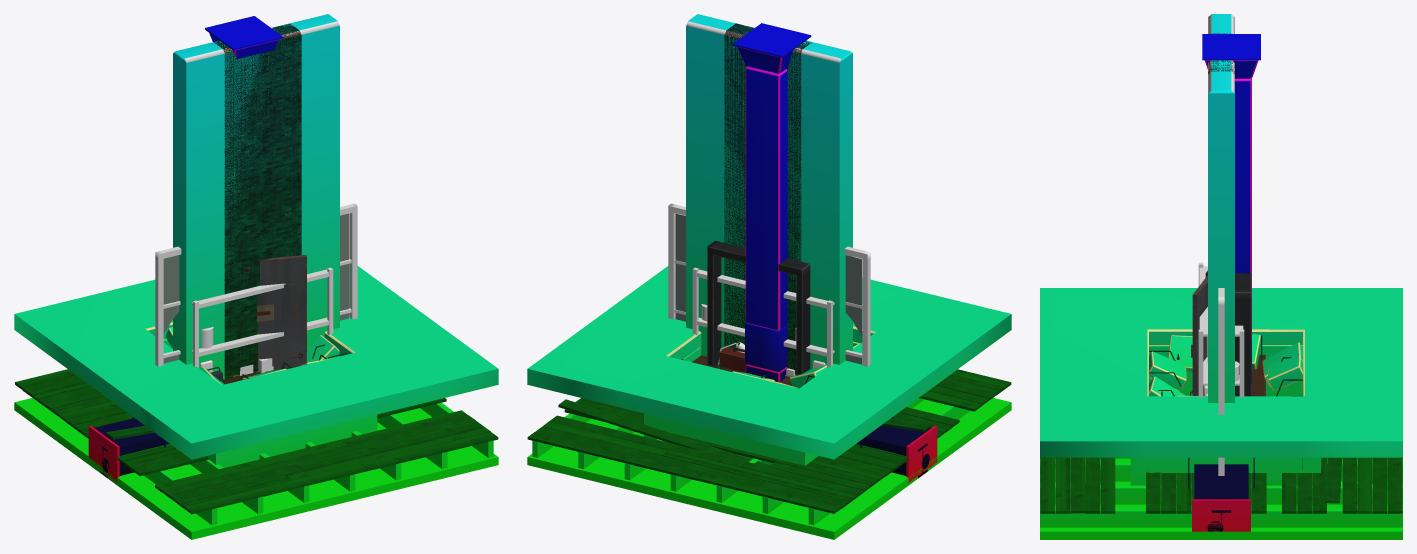
The model's file is factory.glb.
3 views of the same model, side by side, from view 1: azimuth 30°, elevation 25°; view 2: azimuth 150°, elevation 25°; view 3: azimuth 270°, elevation 25° (orthographic). The views are drawn at different scales.
Visible parts, largest first — view 1: SM_Floor_Concrete_Broken_4m, SM_Floor_Wood_4m, SM_Wall_Plaster_2m, SM_Wall_Brick_1m, SM_Door_Metal_Single, SM_Window_Steel_C, SM_Shelf_Rack_B, SM_Duct_4m, SM_Column_Concrete_5m; view 2: SM_Floor_Concrete_Broken_4m, SM_Floor_Wood_4m, SM_Wall_Plaster_2m, SM_Column_Concrete_5m, SM_Wall_Brick_1m, SM_Window_Steel_C, SM_Door_Metal_Single, SM_Duct_4m, SM_Shelf_Rack_B, SM_Workbench; view 3: SM_Floor_Concrete_Broken_4m, SM_Floor_Wood_4m, SM_Wall_Plaster_2m, SM_Column_Concrete_5m, SM_Duct_4m, SM_Door_Metal_Single, SM_Shelf_Rack_B, SM_Window_Steel_C, SM_Workbench.
Part boxes in pixels (x1,y1,x2,y2): SM_Floor_Concrete_Broken_4m: (14,264,498,467); SM_Floor_Wood_4m: (14,369,498,539); SM_Wall_Plaster_2m: (173,14,339,379); SM_Wall_Brick_1m: (213,23,301,379); SM_Door_Metal_Single: (243,255,306,369); SM_Window_Steel_C: (155,203,357,366); SM_Shelf_Rack_B: (191,267,333,375); SM_Duct_4m: (88,417,169,482); SM_Column_Concrete_5m: (205,16,283,58); SM_Floor_Concrete_Broken_4m: (527,266,1011,465); SM_Floor_Wood_4m: (527,369,1011,539); SM_Wall_Plaster_2m: (686,14,852,370); SM_Column_Concrete_5m: (733,23,811,381); SM_Wall_Brick_1m: (724,23,811,374); SM_Window_Steel_C: (668,203,870,366); SM_Door_Metal_Single: (707,240,810,375); SM_Duct_4m: (856,417,937,482); SM_Shelf_Rack_B: (692,267,834,375); SM_Workbench: (692,347,792,385); SM_Floor_Concrete_Broken_4m: (1040,288,1402,485); SM_Floor_Wood_4m: (1040,457,1402,539); SM_Wall_Plaster_2m: (1208,14,1234,402); SM_Column_Concrete_5m: (1202,34,1260,393); SM_Duct_4m: (1188,457,1254,531); SM_Door_Metal_Single: (1191,270,1251,396); SM_Shelf_Rack_B: (1198,262,1244,397); SM_Window_Steel_C: (1218,288,1224,475); SM_Workbench: (1176,344,1265,396).
Bounding box in the file's own units: 4 × 5.03 × 4.
Materials: 20 (13 with a texture image).
